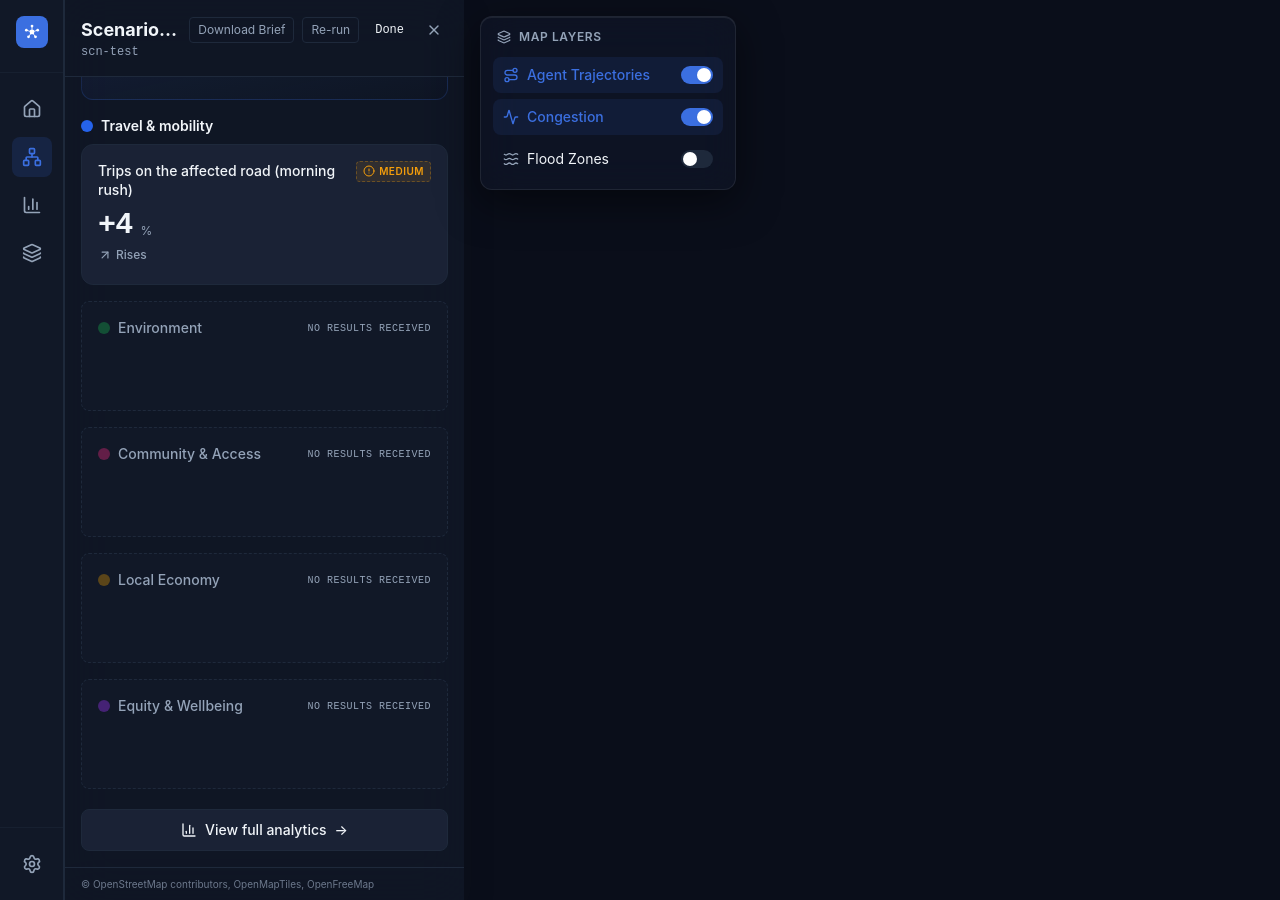
Test case: Provenance wiring: synthesis citations → InspectDrawer › renders the synthesis narrative with citation chips
(page scrolled)
Click the button "View full analytics →": {"x": 264, "y": 830} [81,809,448,851]
(page scrolled)
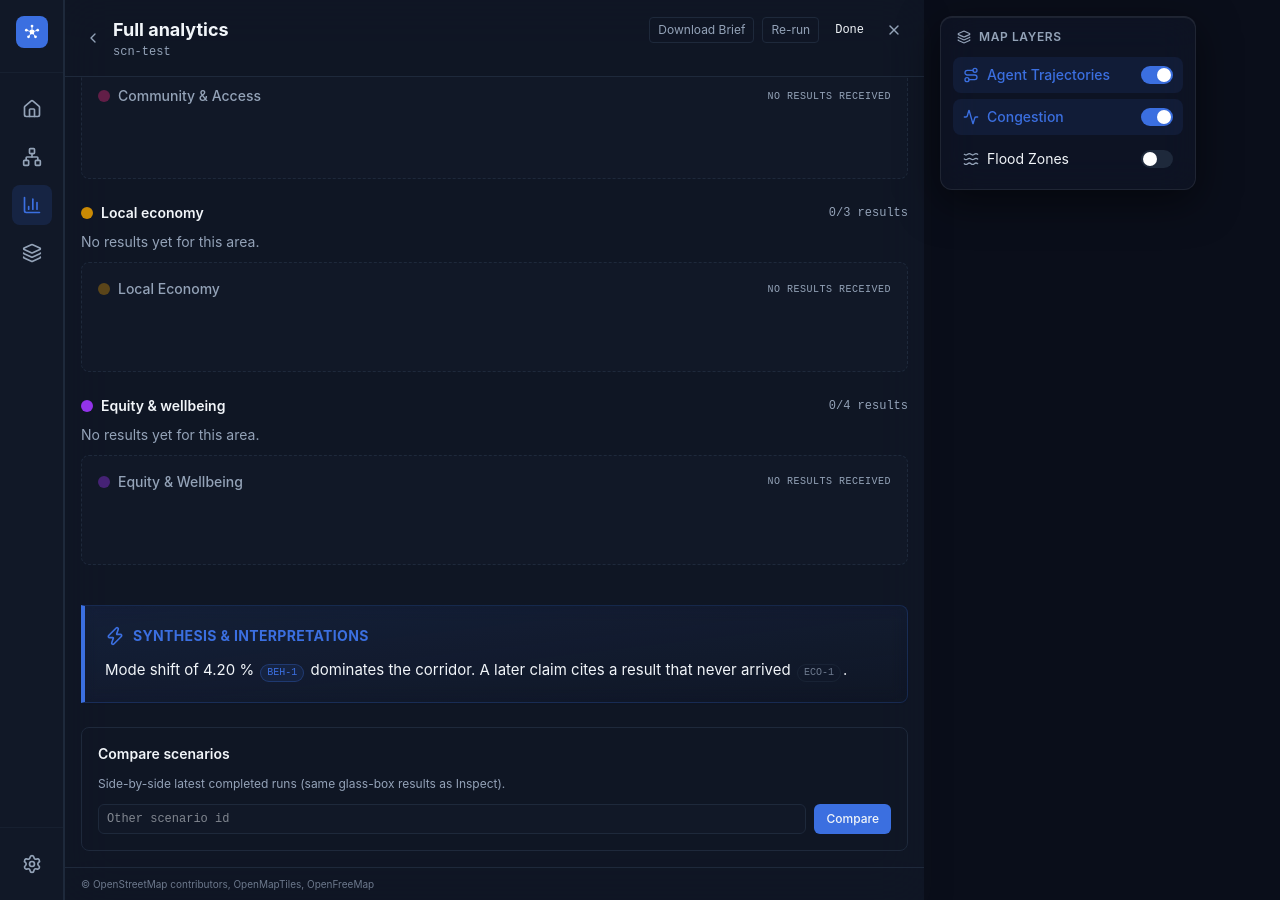
Expected: the element with test id "synthesis-narrative" shows "dominates the corridor", [306,660,795,679]
Expected: the button with test id "cite-BEH-1" is enabled, [260,664,304,682]
Expected: the button with test id "cite-ECO-1" is disabled, [797,664,841,682]
